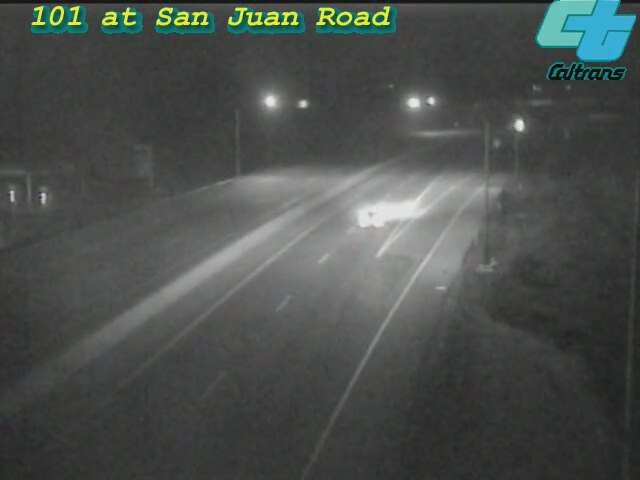vehicle: (329, 179, 409, 259), (490, 101, 540, 151)
